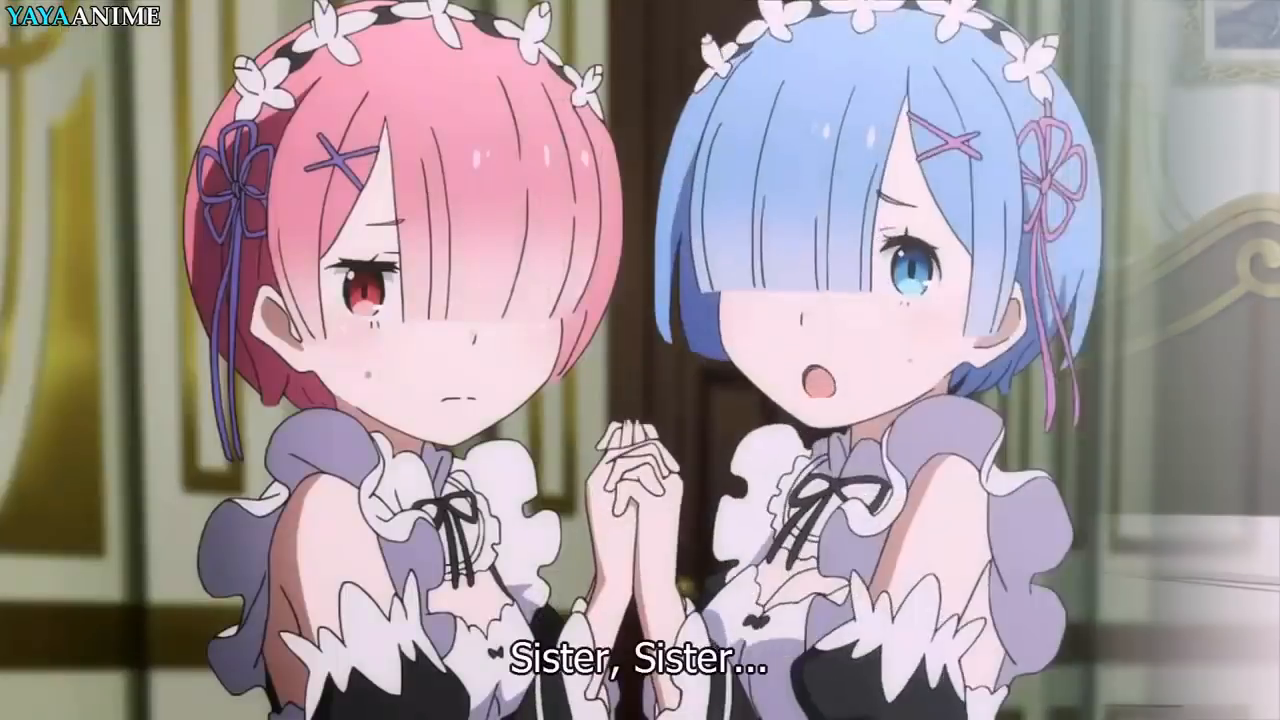REM: (649, 4, 1092, 423)
